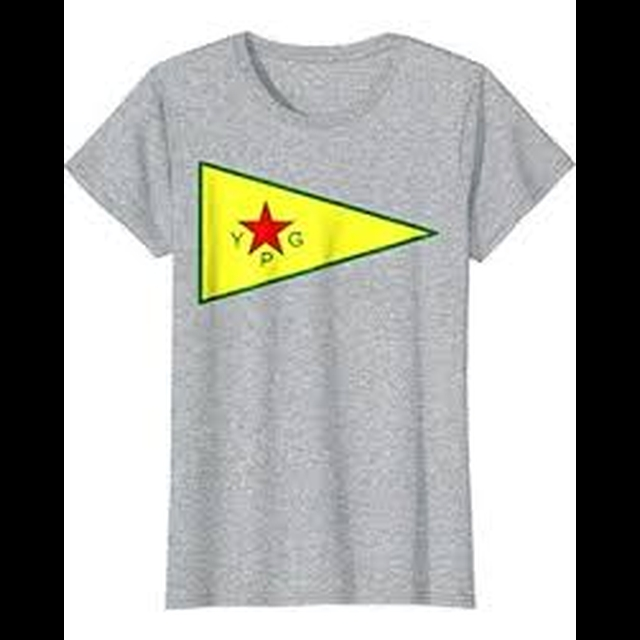YPG: (224, 195, 308, 269)
